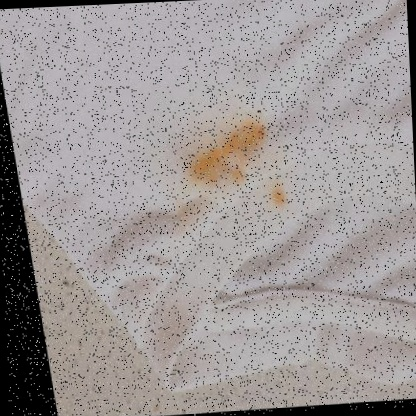kimchi: (185, 125, 270, 193), (256, 180, 289, 212)
